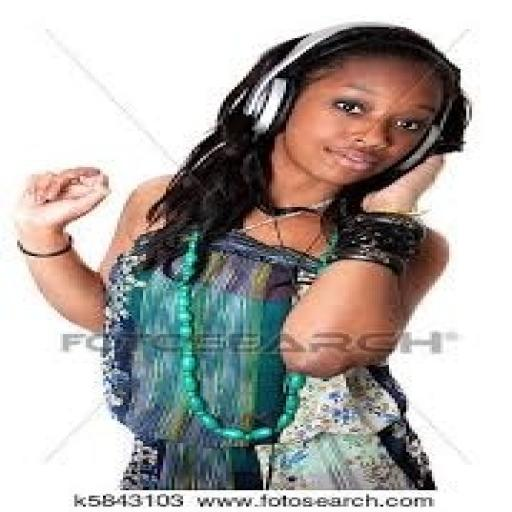listening_to_music: (9, 20, 472, 492)
